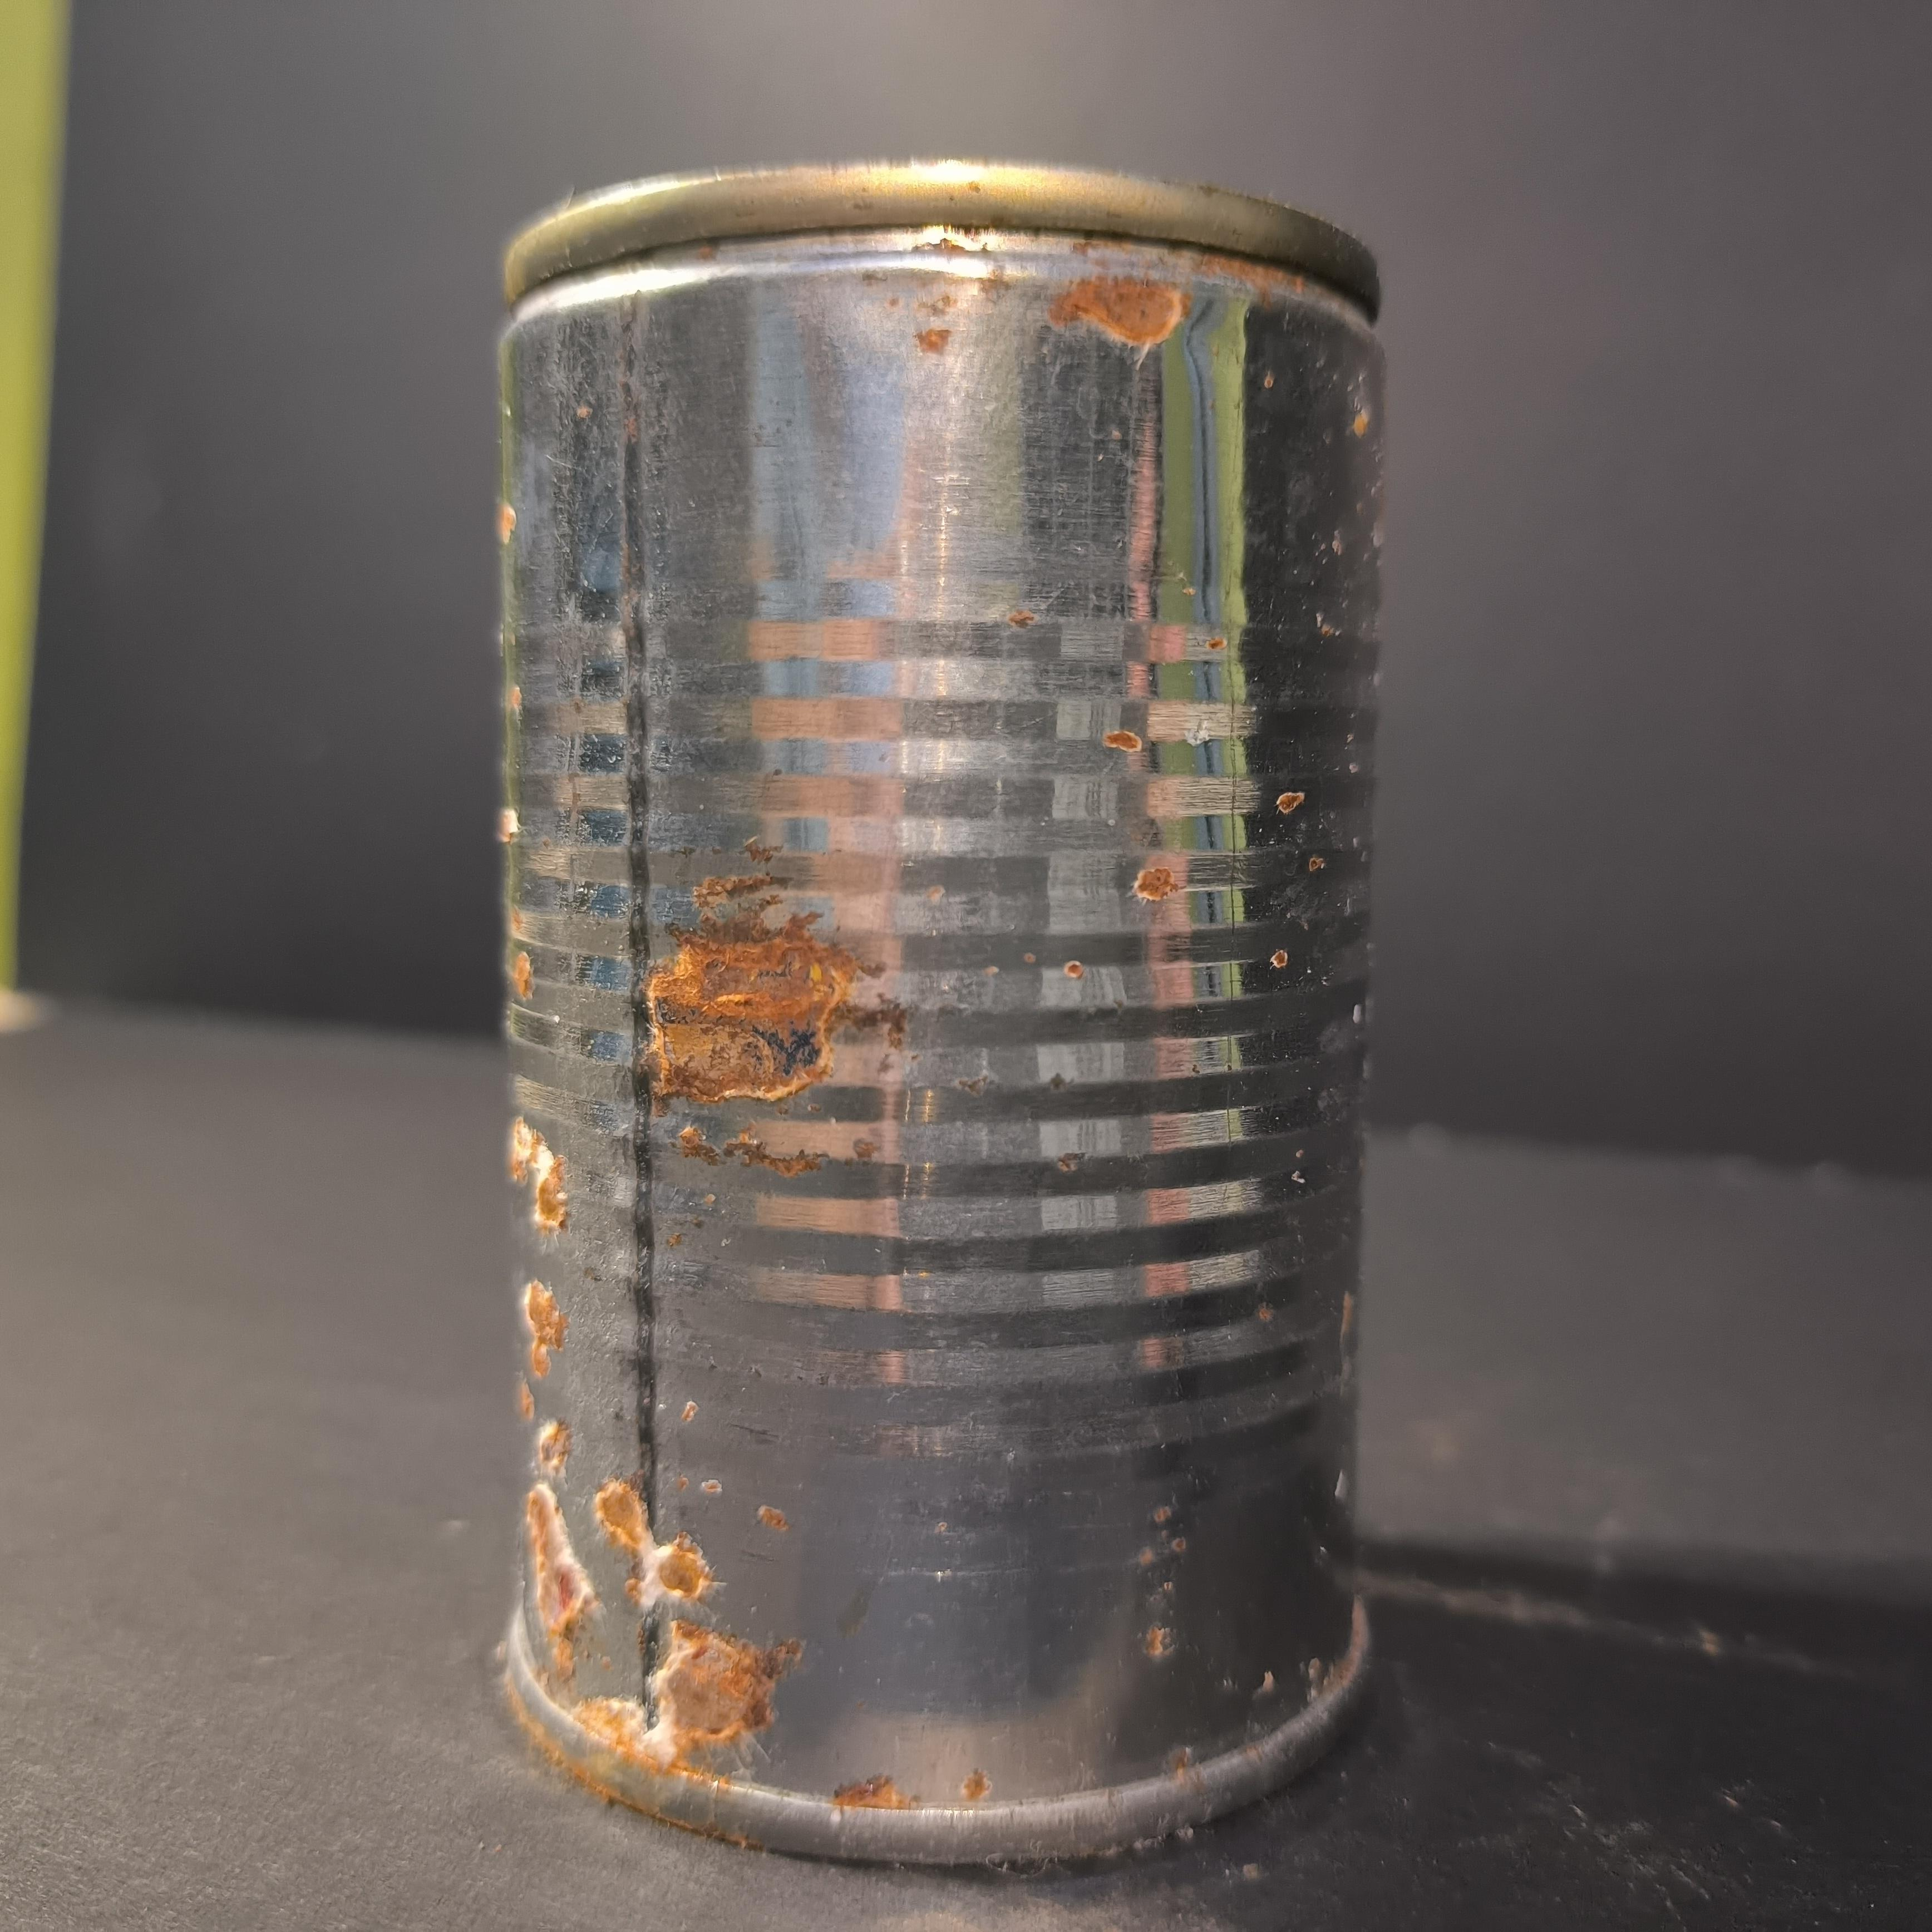Rusted: (481, 145, 1410, 1884)
